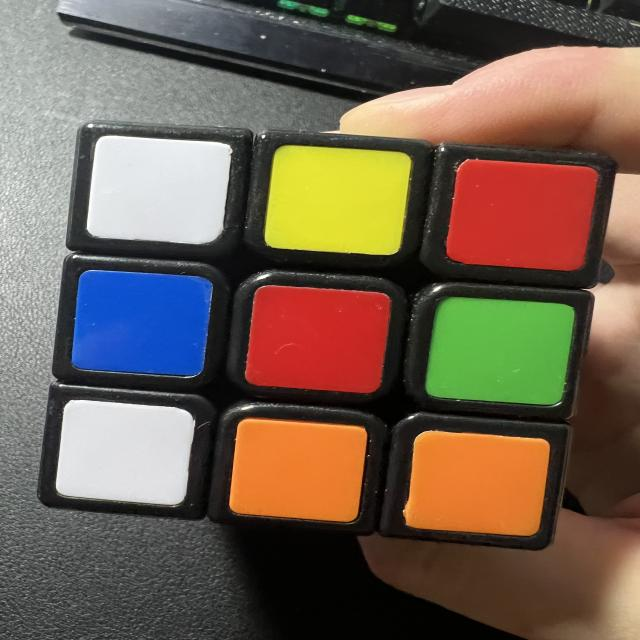blue: (71, 269, 213, 378)
center: (244, 282, 391, 393)
green: (424, 293, 576, 409)
orange: (402, 428, 551, 539), (228, 416, 368, 524)
red: (445, 158, 598, 273), (244, 283, 392, 395)
white: (86, 134, 232, 246), (55, 397, 196, 508)
yellow: (263, 144, 412, 257)
